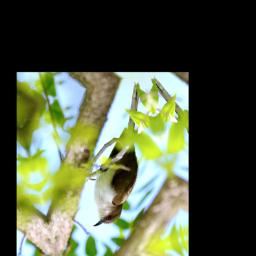Cuckoo: (59, 81, 175, 230)
